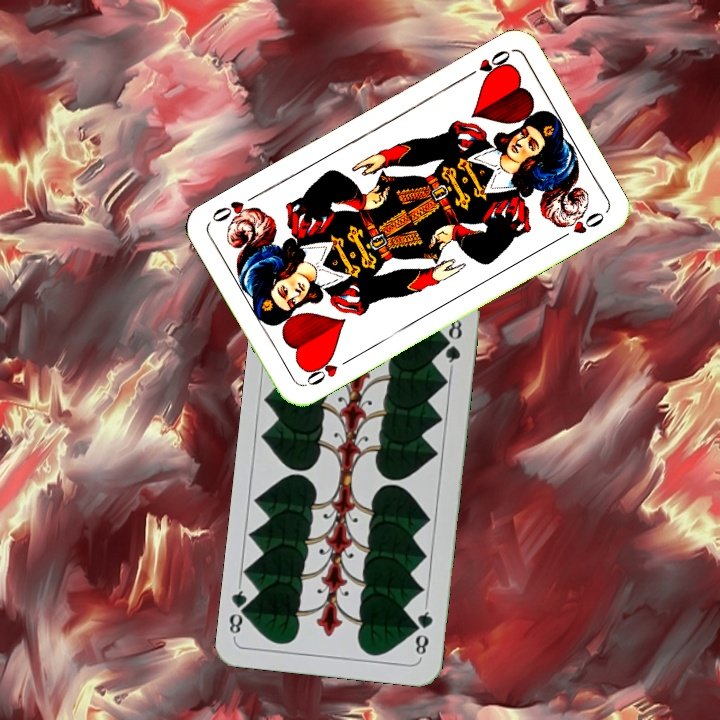G8: (410, 601, 436, 661)
HO: (301, 351, 355, 389), (459, 46, 514, 82)
